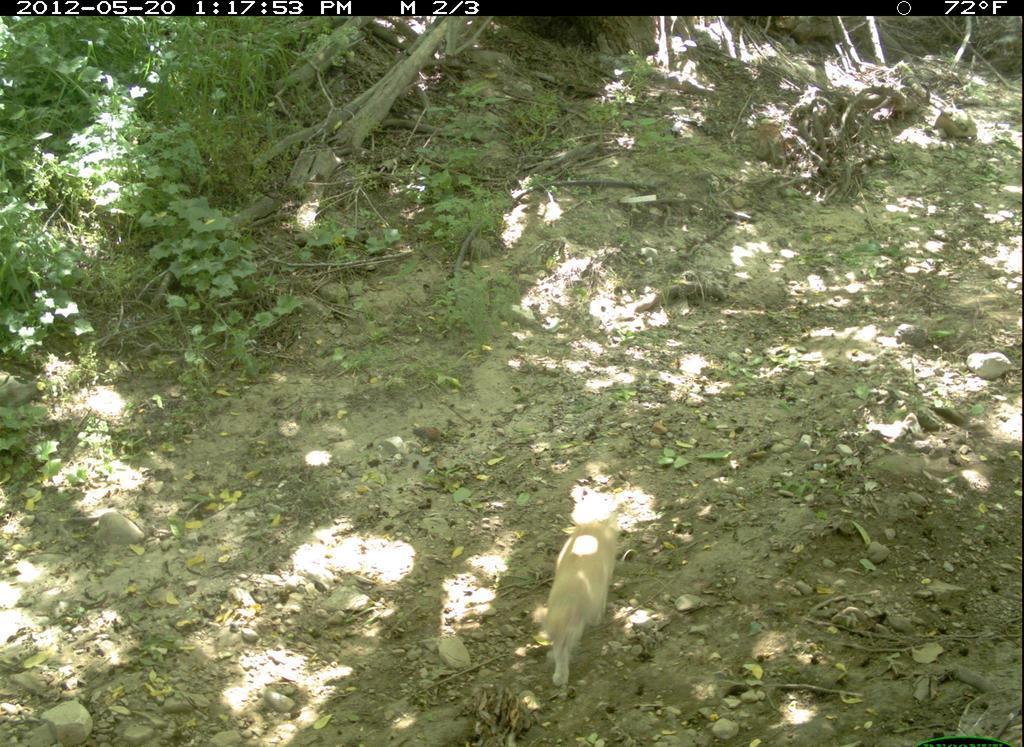cat: (514, 474, 648, 702)
